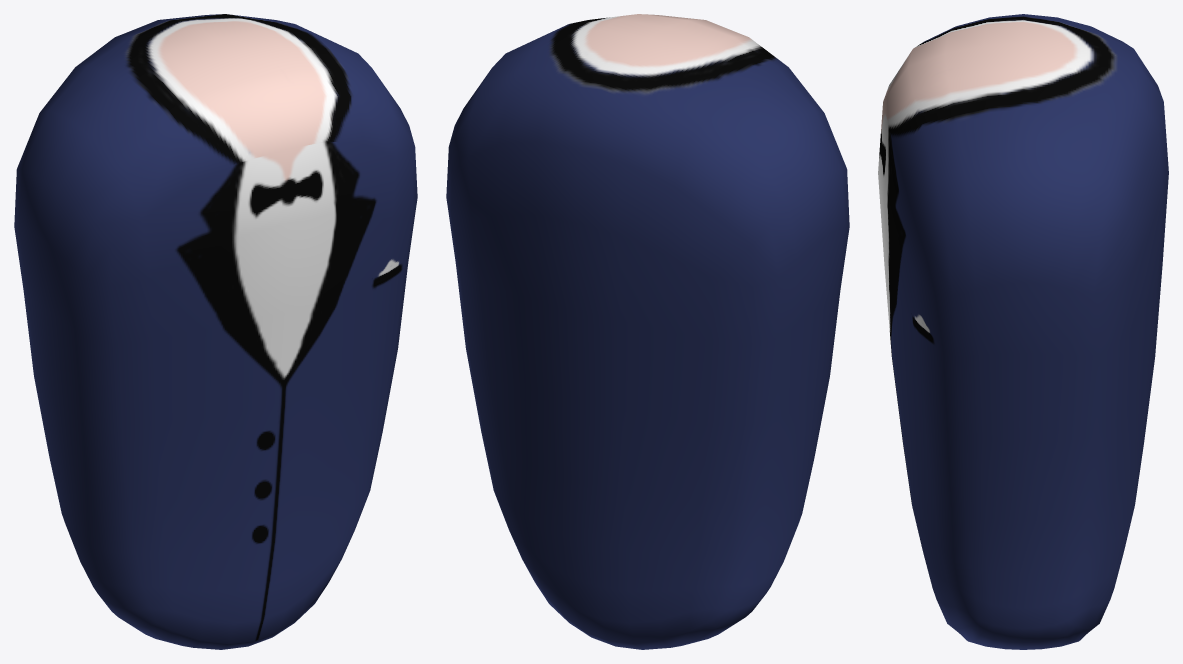
File: NanShenTi.FBX
3 views of the same model, side by side, from view 1: azimuth 30°, elevation 25°; view 2: azimuth 150°, elevation 25°; view 3: azimuth 270°, elevation 25° (orthographic).
Visible parts, largest first — view 1: Body; view 2: Body; view 3: Body.
Part boxes in pixels (<box>): Body: <box>14,14,417,649</box>; Body: <box>446,14,849,649</box>; Body: <box>878,14,1168,649</box>.
Size of the model in its own units: 35.44 by 55.75 by 25.05.
Materials: 1 (1 with a texture image).
